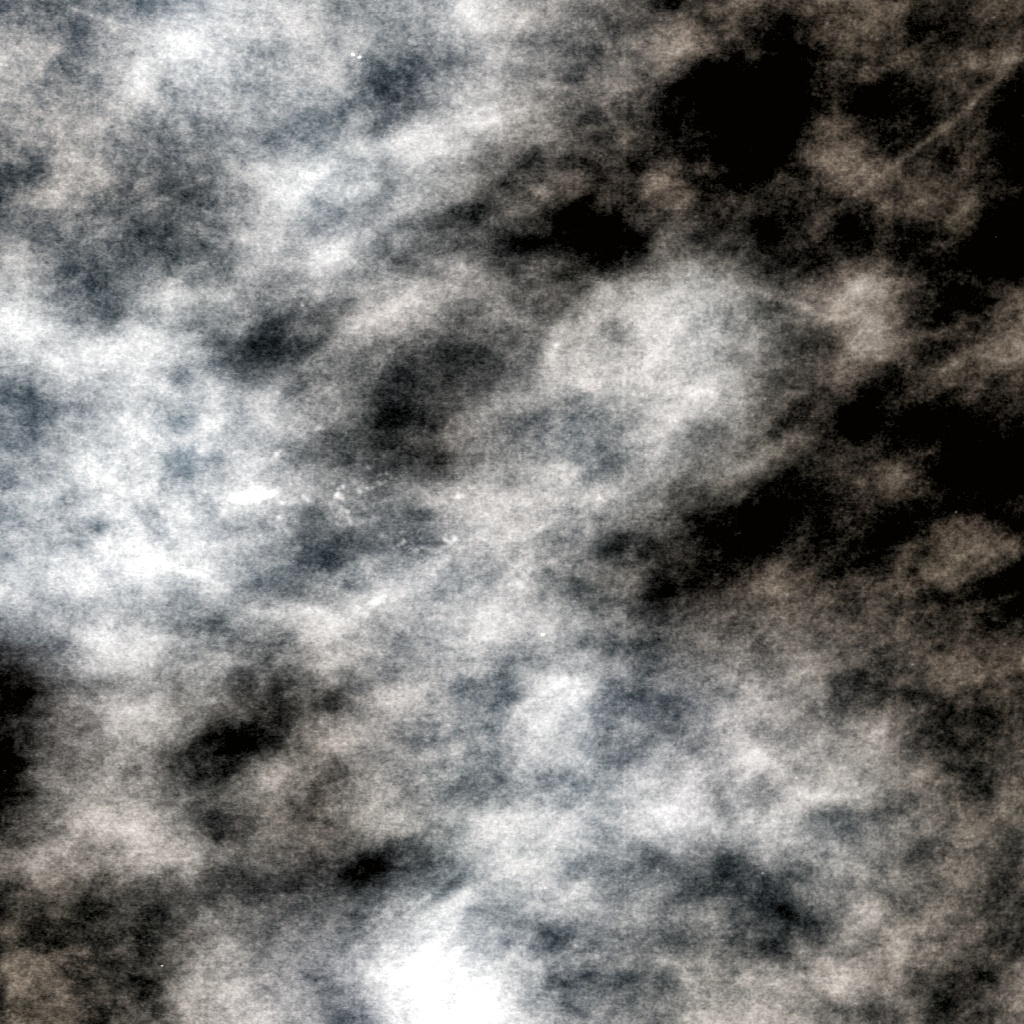tumor: (268, 393, 756, 631)
